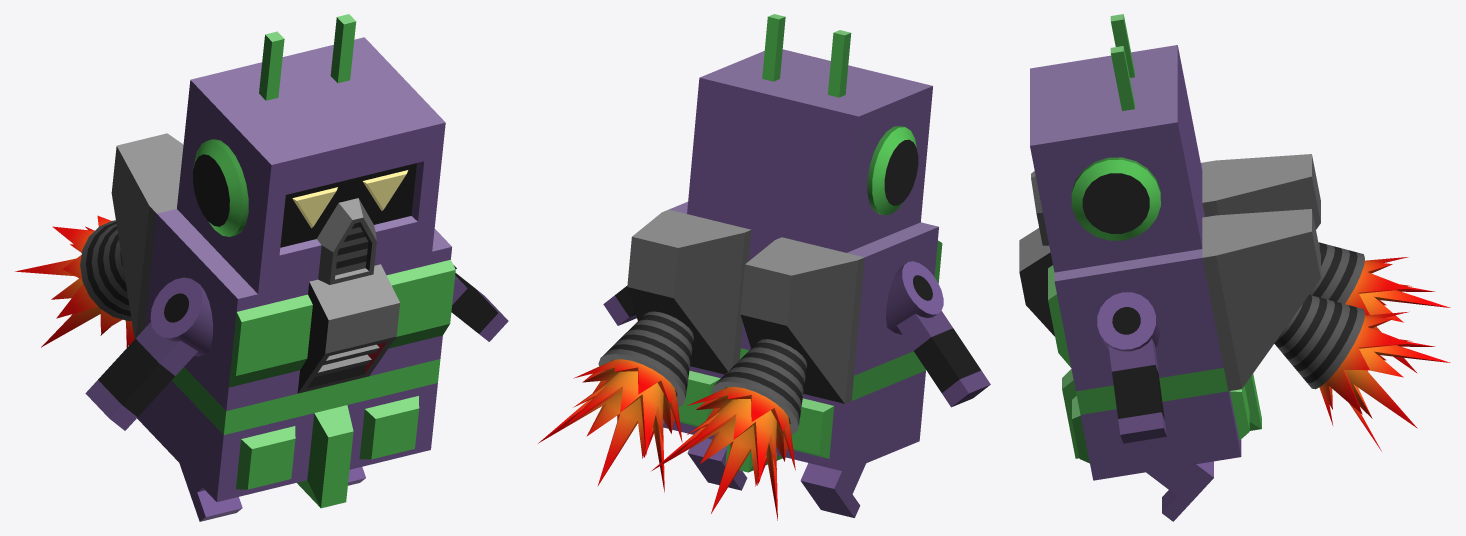
Rendered from Ch_228@Down.FBX.
3 renders of one model, left to right at view 1: azimuth 30°, elevation 25°; view 2: azimuth 150°, elevation 25°; view 3: azimuth 270°, elevation 25°, orthographic. The views are drawn at different scales.
Visible parts, largest first — view 1: Ch_210, Ch_210_Head, Ch_210_Arm_L, Ch_228_Fire_R, Ch_210_Arm_R, Ch_210_Eye_01, Ch_210_Leg_L; view 2: Ch_210, Ch_210_Head, Ch_210_Arm_L, Ch_228_Fire_L, Ch_228_Fire_R, Ch_210_Leg_L, Ch_210_Leg_R, Ch_210_Arm_R; view 3: Ch_210, Ch_210_Head, Ch_210_Arm_R, Ch_228_Fire_L, Ch_228_Fire_R, Ch_210_Leg_R.
Part boxes in pixels (x1,y1,x2,y2): Ch_210: (80, 133, 455, 508); Ch_210_Head: (177, 14, 445, 293); Ch_210_Arm_L: (85, 277, 212, 430); Ch_228_Fire_R: (15, 215, 134, 347); Ch_210_Arm_R: (451, 265, 508, 341); Ch_210_Eye_01: (292, 170, 408, 228); Ch_210_Leg_L: (179, 463, 242, 521); Ch_210: (598, 201, 942, 472); Ch_210_Head: (687, 14, 932, 252); Ch_210_Arm_L: (886, 261, 990, 407); Ch_228_Fire_L: (538, 359, 682, 492); Ch_228_Fire_R: (651, 386, 795, 520); Ch_210_Leg_L: (800, 463, 865, 517); Ch_210_Leg_R: (687, 438, 747, 490); Ch_210_Arm_R: (603, 286, 636, 325); Ch_210: (1019, 154, 1364, 480); Ch_210_Head: (1030, 14, 1202, 272); Ch_210_Arm_R: (1097, 292, 1166, 443); Ch_228_Fire_L: (1319, 311, 1450, 451); Ch_228_Fire_R: (1345, 257, 1450, 373); Ch_210_Leg_R: (1146, 461, 1213, 521).
Bounding box in the file's own units: 7.9 × 9.41 × 8.13.
